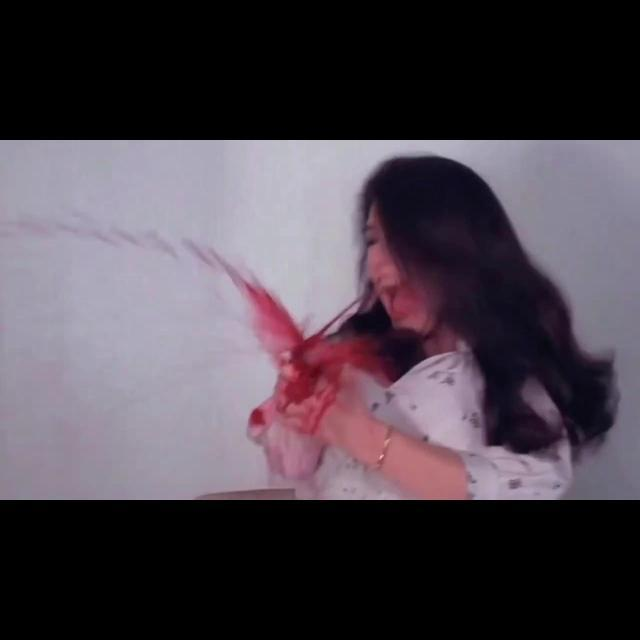blood: (186, 240, 396, 438)
